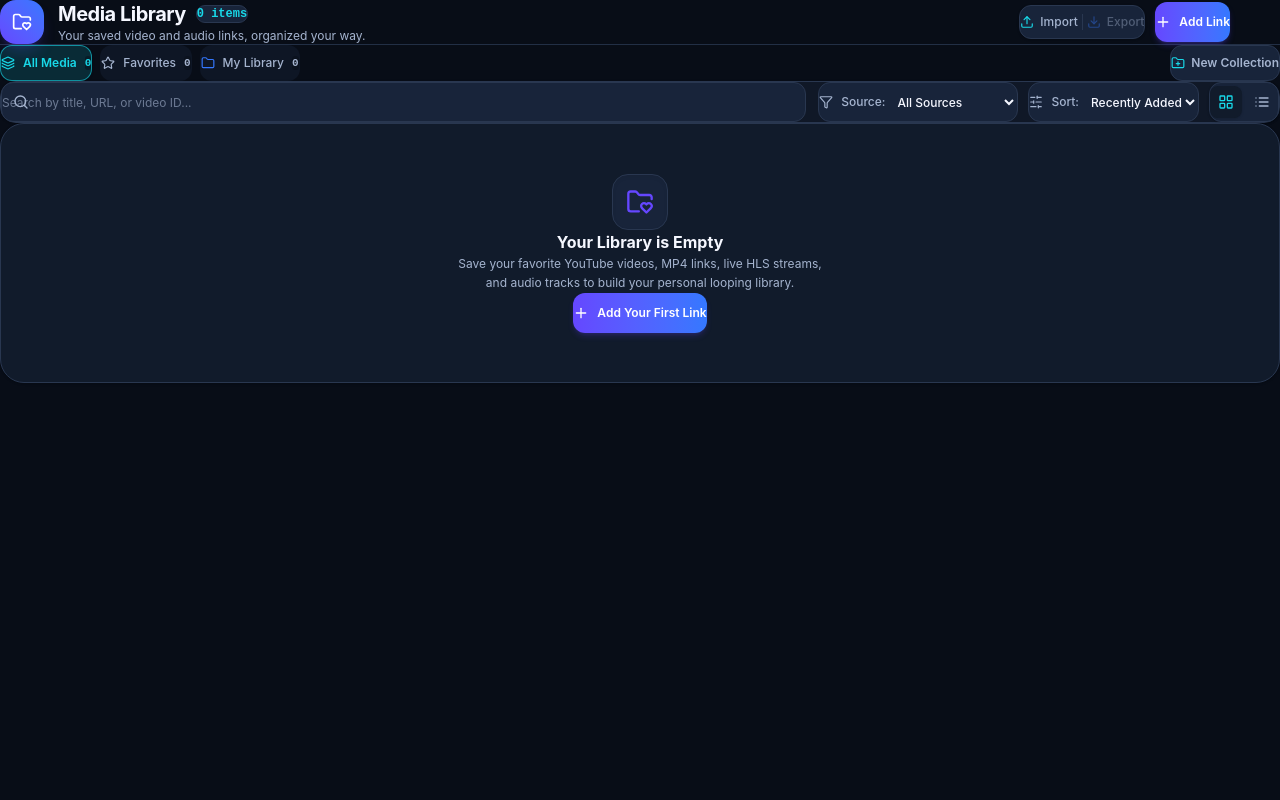
Test case: LibraryScreen UI Redesign (Phase 3) › opens Add Link modal and closes cleanly
Click the button "Add Link" at (1193, 22), box [1155,2,1230,42]
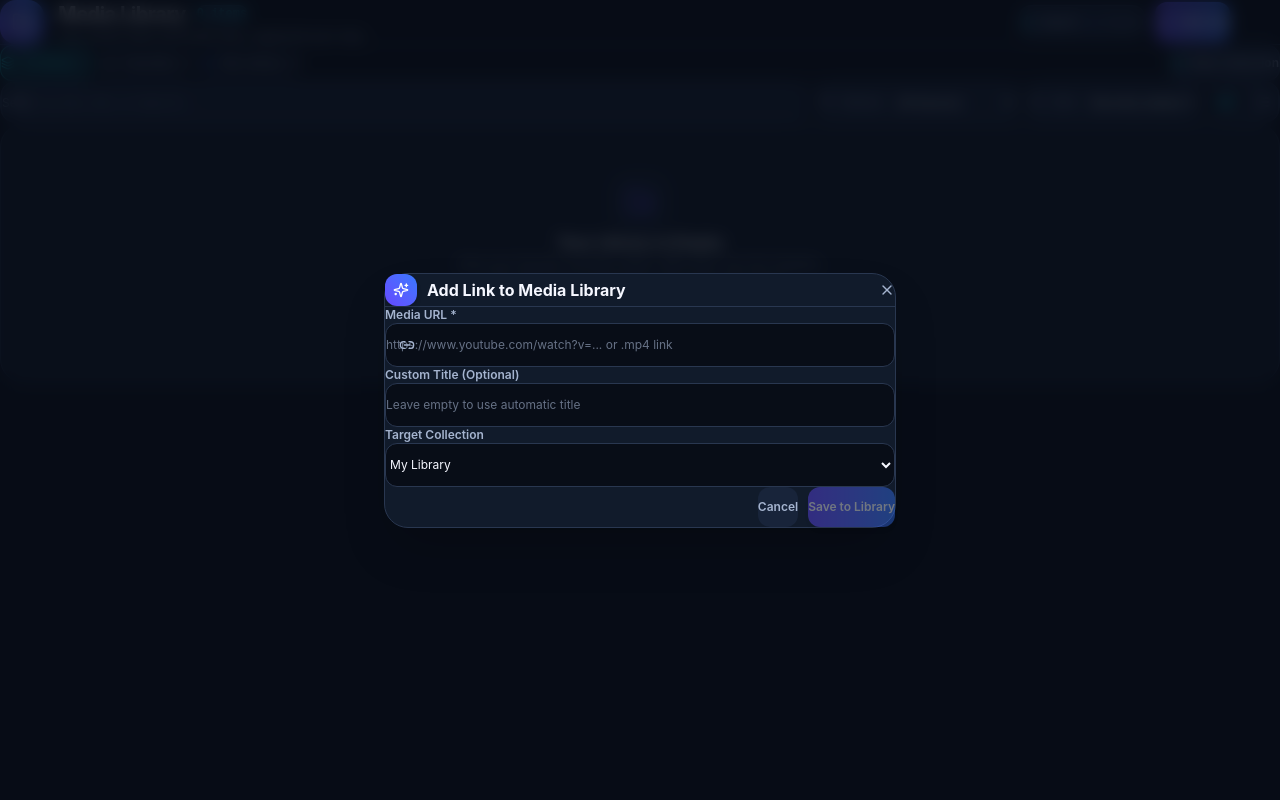
Now the heading "Add Link to Media Library" is shown, box [427,278,626,302]
Now the field with placeholder "https://www.youtube.com/watch?v=... or .mp4 link" is shown, box [385,322,895,366]
Click the button "Cancel" at (778, 506), box [758,486,798,526]
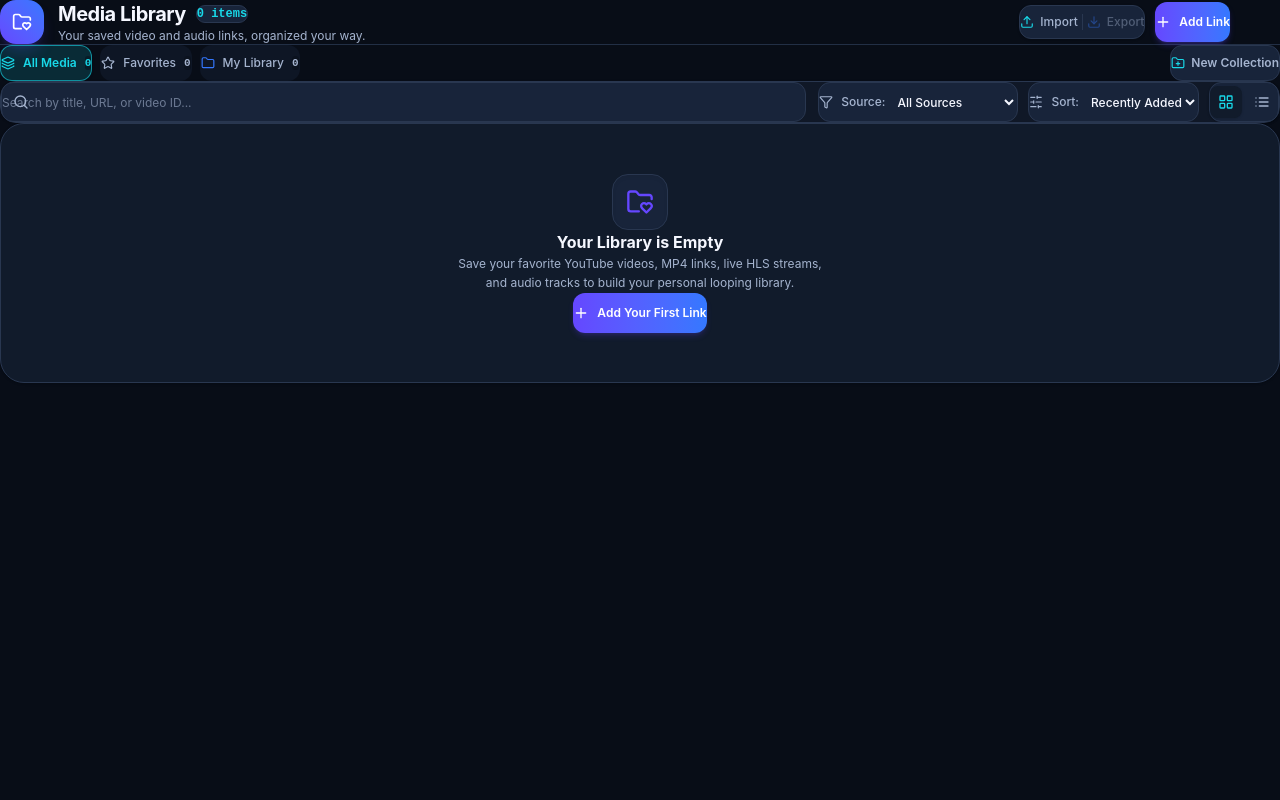
Now the heading "Add Link to Media Library" is gone
